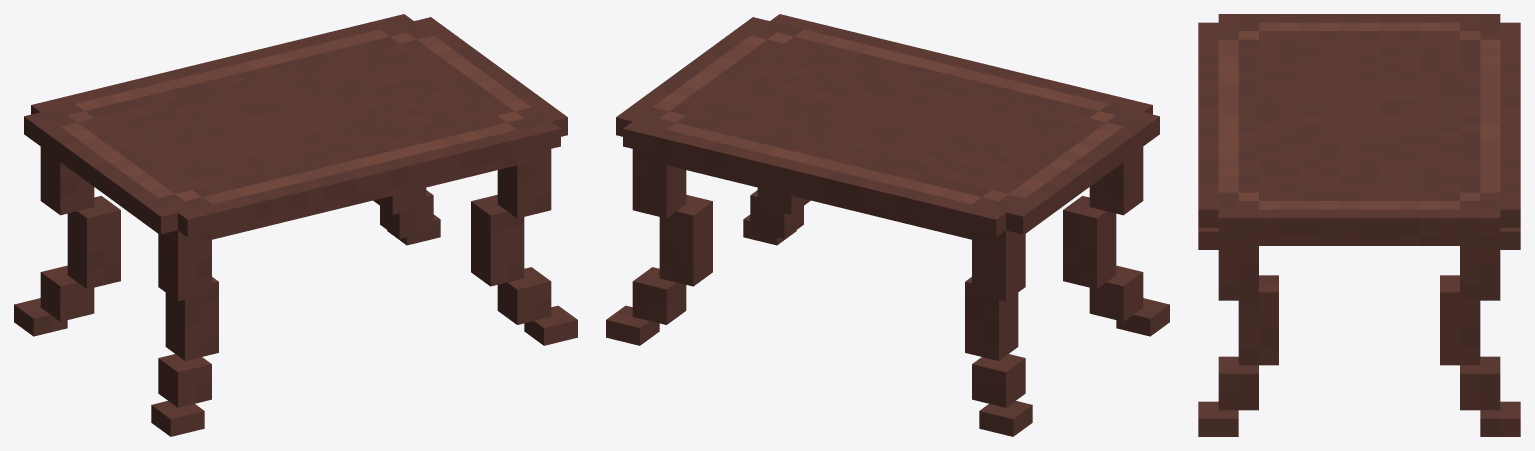
File: table.obj
3 views of the same model, side by side, from view 1: azimuth 30°, elevation 25°; view 2: azimuth 150°, elevation 25°; view 3: azimuth 270°, elevation 25° (orthographic). The views are drawn at different scales.
Size of the model in its own units: 2.4 by 1.2 by 1.6.
1 material, 1 textured.
